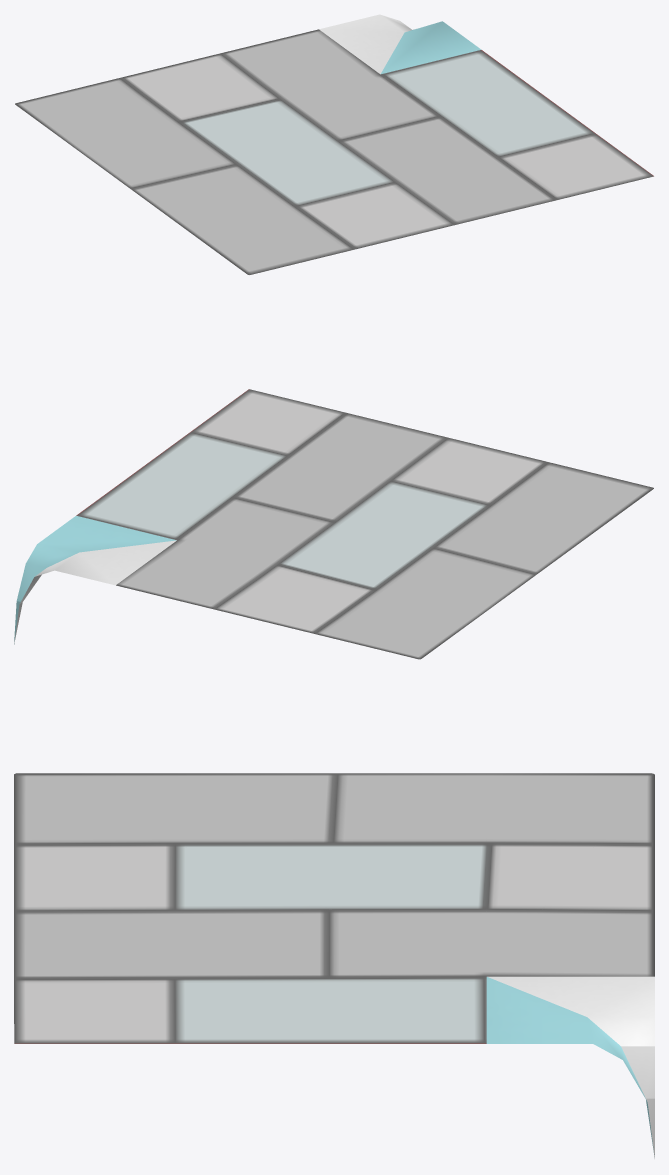
The model's file is Mod_TileWalk_04.fbx.
3 views of the same model, one above another, from view 1: azimuth 30°, elevation 25°; view 2: azimuth 150°, elevation 25°; view 3: azimuth 270°, elevation 25° (orthographic). The views are drawn at different scales.
Visible parts, largest first — view 1: Mod_TileWalk_04; view 2: Mod_TileWalk_04; view 3: Mod_TileWalk_04.
Part boxes in pixels (left/top/right/bottom): Mod_TileWalk_04: left=15, top=14, right=653, bottom=274; Mod_TileWalk_04: left=14, top=389, right=653, bottom=659; Mod_TileWalk_04: left=14, top=773, right=654, bottom=1158.
Bounding box in the file's own units: 100 × 20 × 100.
